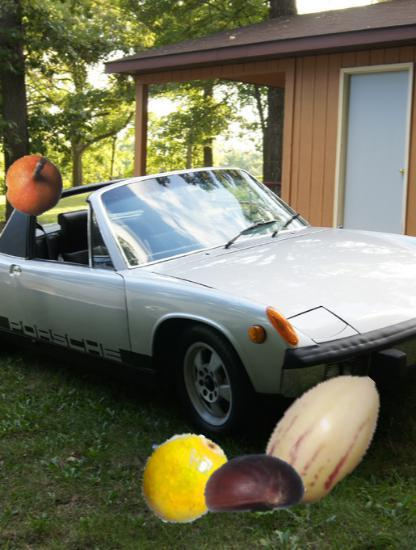Chestnut: (202, 431, 306, 535)
Granadilla: (3, 155, 65, 217)
Maracuja: (136, 431, 231, 526)
Pepino: (252, 362, 398, 508)
